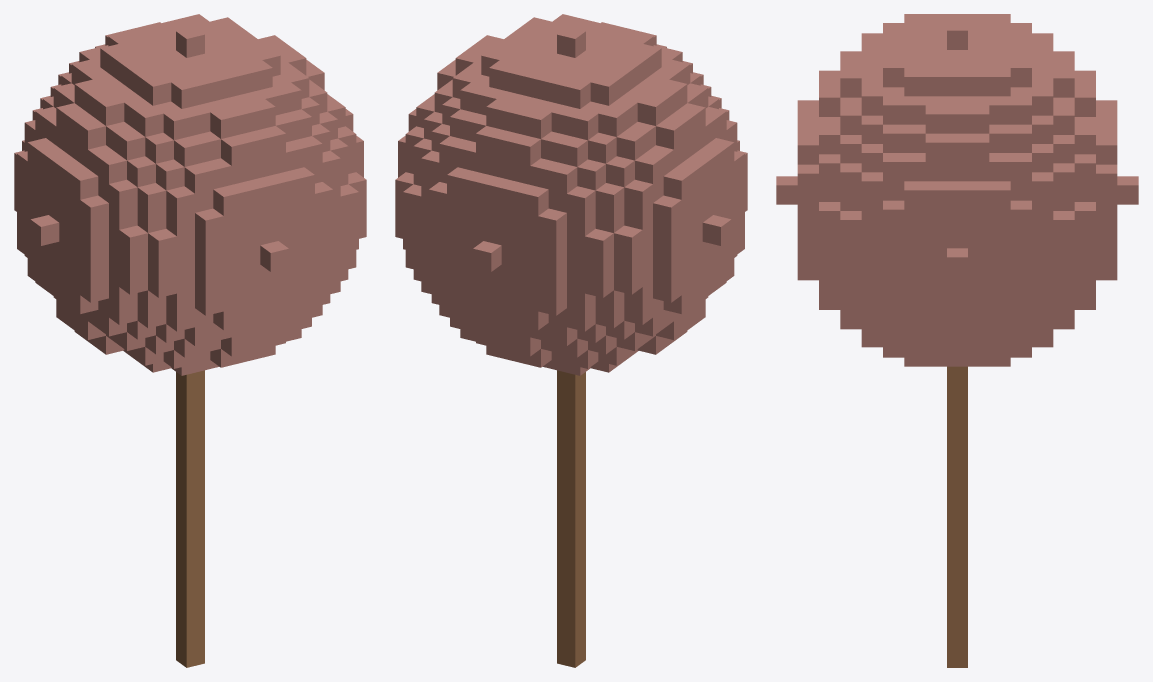
Rendered from commerce-18.glb.
3 renders of one model, left to right at view 1: azimuth 30°, elevation 25°; view 2: azimuth 150°, elevation 25°; view 3: azimuth 270°, elevation 25°, orthographic.
Visible parts, largest first — view 1: Sale balloon; view 2: Sale balloon; view 3: Sale balloon.
Part boxes in pixels (left/top/right/bottom): Sale balloon: left=14, top=14, right=366, bottom=667; Sale balloon: left=395, top=14, right=747, bottom=667; Sale balloon: left=776, top=14, right=1138, bottom=667.
Size of the model in its own units: 1.36 by 2.64 by 1.36.
